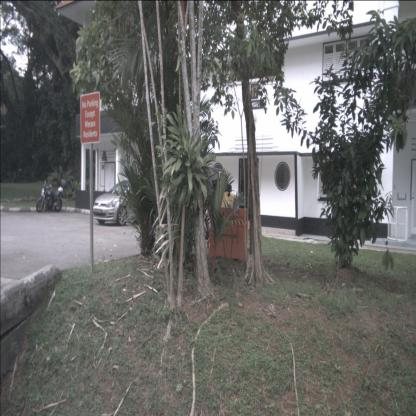barrier: (209, 209, 247, 261)
